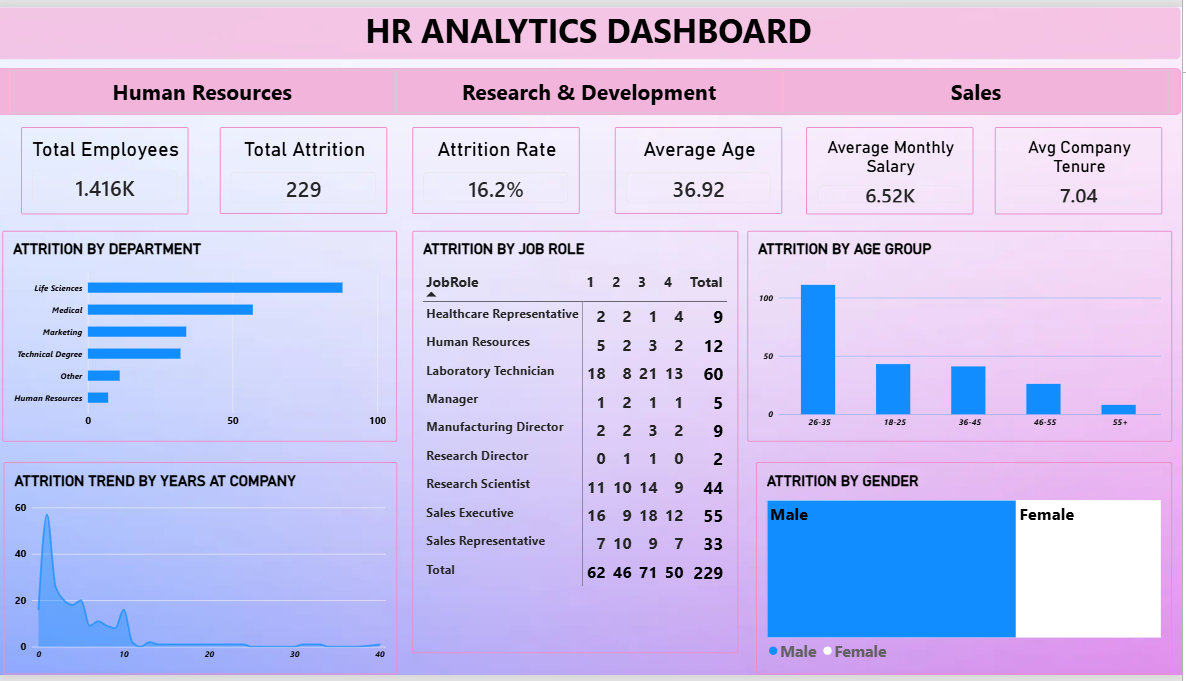

The page's visual inventory and layout, read from the dashboard file:
{"tool":"powerbi","page":{"name":"Page 1","canvas":[1920,1080],"ordinal":0},"visuals":[{"type":"textbox","box":[0,0,1918.4,85],"z":0},{"type":"cardVisual","title":"Total Employees","fields":{"Data":["CountNonNull(HR_Analytics.EmpID)"]},"box":[40.5,194.3,271.2,141.7],"z":1},{"type":"cardVisual","title":"Total Attrition","fields":{"Data":["Sum(HR_Analytics.Attrition Count)"]},"box":[362.2,194.3,271.5,141.1],"z":2},{"type":"cardVisual","title":"Attrition Rate","fields":{"Data":["HR_Analytics.Attrition Rate"]},"box":[673.9,194.3,271.5,141.1],"z":3},{"type":"cardVisual","title":"Average Monthly Salary","fields":{"Data":["Avg(HR_Analytics.MonthlyIncome)"]},"box":[1311.3,194.3,271.2,141.7],"z":5},{"type":"cardVisual","title":"Avg Company Tenure","fields":{"Data":["Avg(HR_Analytics.YearsAtCompany)"]},"box":[1616.9,194.3,271.2,141.7],"z":6},{"type":"cardVisual","title":"Average Age","fields":{"Data":["Avg(HR_Analytics.Age)"]},"box":[1001.7,194.3,271.5,141.1],"z":7},{"type":"barChart","title":"ATTRITION BY DEPARTMENT","fields":{"Category":["HR_Analytics.EducationField"],"Y":["Sum(HR_Analytics.Attrition Count)"]},"box":[10.1,362.2,639.5,342],"z":8},{"type":"columnChart","title":"ATTRITION BY AGE GROUP","fields":{"Category":["HR_Analytics.AgeGroup"],"Y":["Sum(HR_Analytics.Attrition Count)"]},"box":[1216.2,362.2,688,342],"z":9},{"type":"pivotTable","title":"ATTRITION BY JOB ROLE","fields":{"Columns":["HR_Analytics.JobSatisfaction"],"Rows":["HR_Analytics.JobRole"],"Values":["Sum(HR_Analytics.Attrition Count)"]},"box":[673.9,362.2,528.2,684],"z":10},{"type":"lineChart","title":"ATTRITION TREND BY YEARS AT COMPANY","fields":{"Category":["HR_Analytics.YearsAtCompany"],"Y":["Sum(HR_Analytics.Attrition Count)"]},"box":[12.1,736.6,637.4,344],"z":11},{"type":"treemap","title":"ATTRITION BY GENDER","fields":{"Group":["HR_Analytics.Gender"],"Values":["Sum(HR_Analytics.Attrition Count)"]},"box":[1230.4,736.6,673.9,344],"z":12},{"type":"slicer","fields":{"Values":["HR_Analytics.Department"]},"box":[0,99.2,1918.4,74.9],"z":13}]}

Visuals, with their boxes in screenshot pixels (x1, y1, x2, y2), scaled from the page's 1920x1080 canvas onto the 1186x681 screenshot:
textbox: [0,0,1185,54]
"Total Employees" cardVisual: [25,123,193,212]
"Total Attrition" cardVisual: [224,123,391,211]
"Attrition Rate" cardVisual: [416,123,584,211]
"Average Monthly Salary" cardVisual: [810,123,978,212]
"Avg Company Tenure" cardVisual: [999,123,1166,212]
"Average Age" cardVisual: [619,123,786,211]
"ATTRITION BY DEPARTMENT" barChart: [6,228,401,444]
"ATTRITION BY AGE GROUP" columnChart: [751,228,1176,444]
"ATTRITION BY JOB ROLE" pivotTable: [416,228,743,660]
"ATTRITION TREND BY YEARS AT COMPANY" lineChart: [7,464,401,680]
"ATTRITION BY GENDER" treemap: [760,464,1176,680]
slicer - HR_Analytics.Department: [0,63,1185,110]
